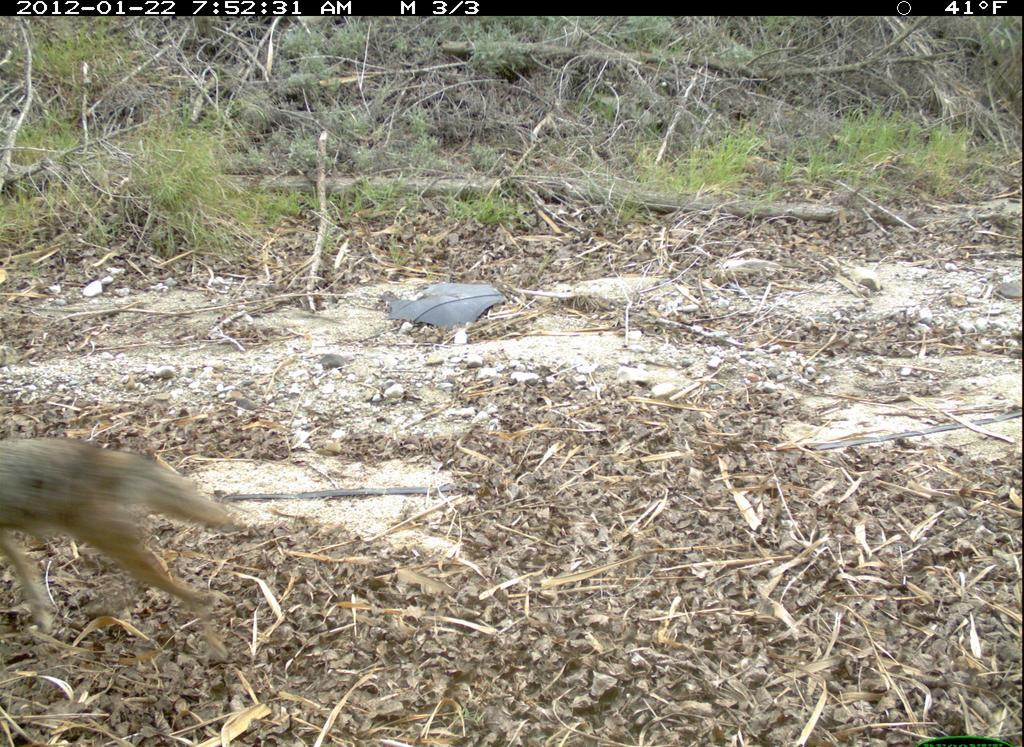coyote: (4, 420, 241, 676)
